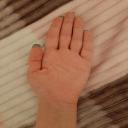OpenPalm: (27, 11, 94, 104)
